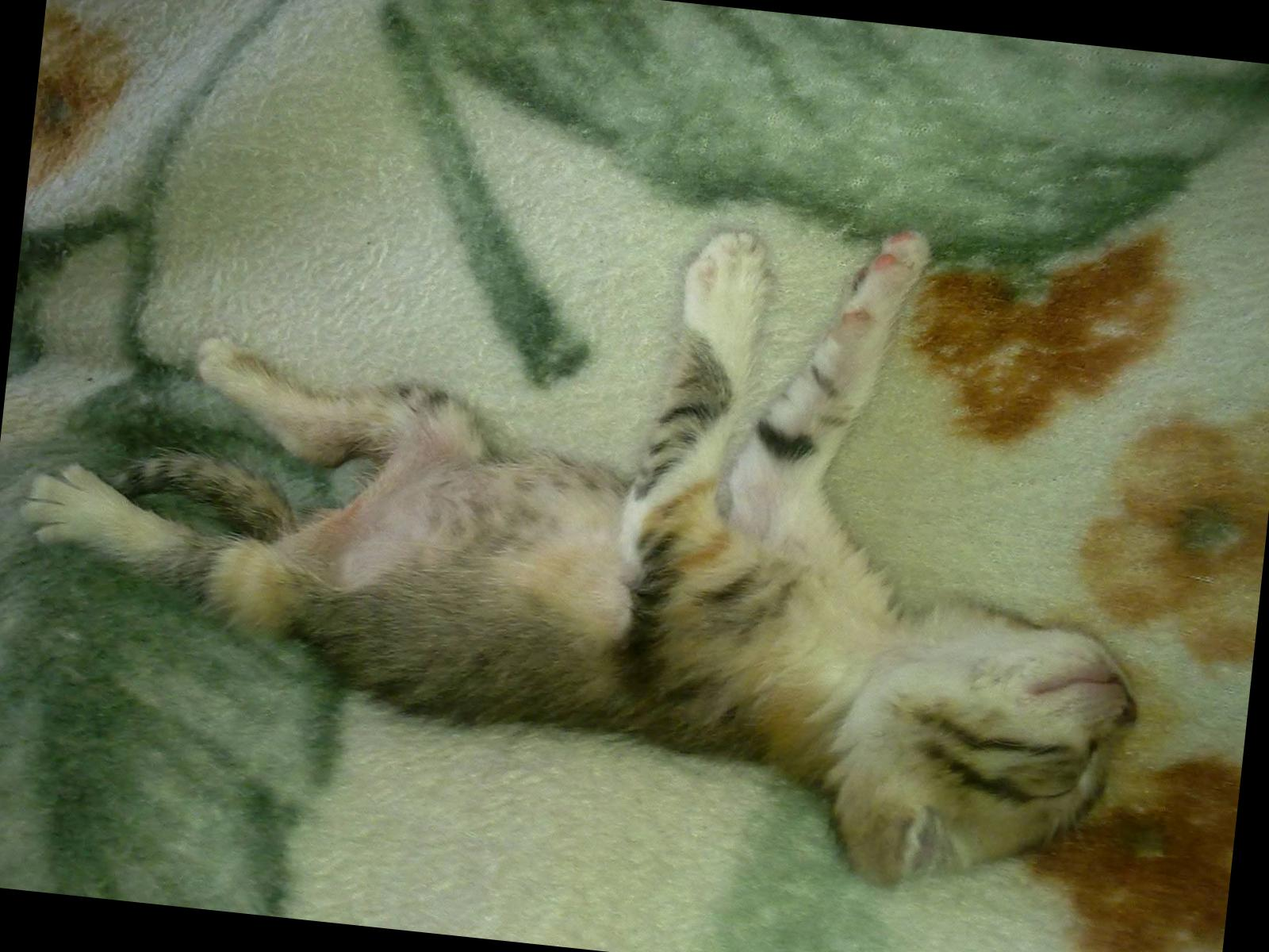macka: (0, 132, 1187, 920)
